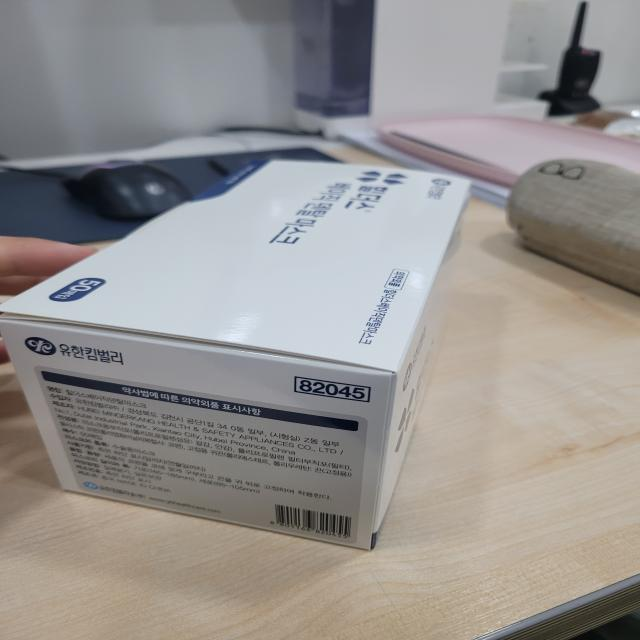mask: (0, 127, 494, 563)
